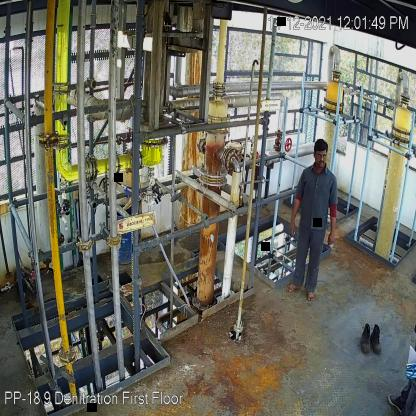no_shoes: (284, 283, 302, 292), (304, 290, 315, 304)
shoes: (359, 322, 374, 355), (371, 324, 383, 354)
